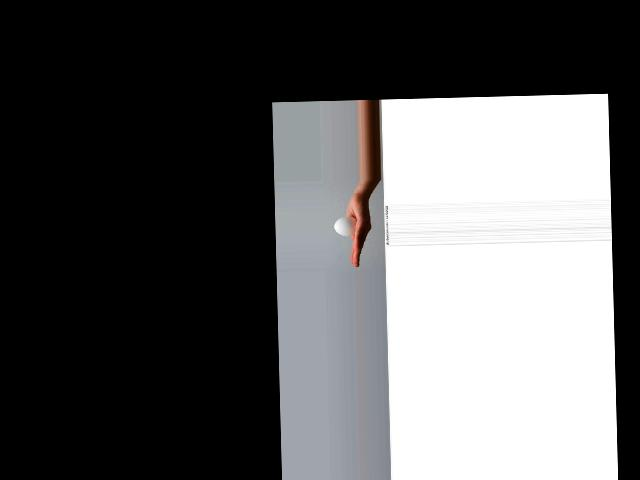egg: (334, 217, 357, 236)
